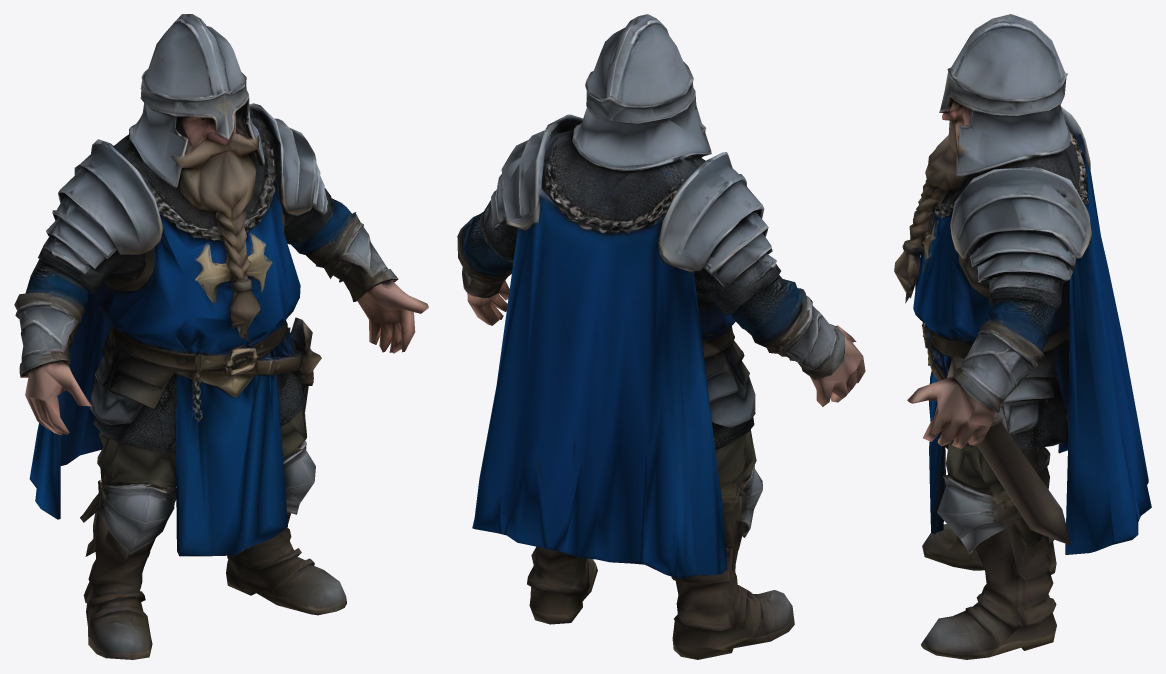
The model's file is dwf_spear.glb.
3 views of the same model, side by side, from view 1: azimuth 30°, elevation 25°; view 2: azimuth 150°, elevation 25°; view 3: azimuth 270°, elevation 25° (orthographic). The views are drawn at different scales.
Visible parts, largest first — view 1: node_0; view 2: node_0; view 3: node_0.
Boxes of the visible parts, x1=… form: node_0: x1=14, y1=14, x2=428, y2=659; node_0: x1=457, y1=14, x2=865, y2=659; node_0: x1=894, y1=14, x2=1151, y2=659.
Bounding box in the file's own units: 0.7235 × 1.09 × 0.4331.
Materials: 1 (1 with a texture image).
